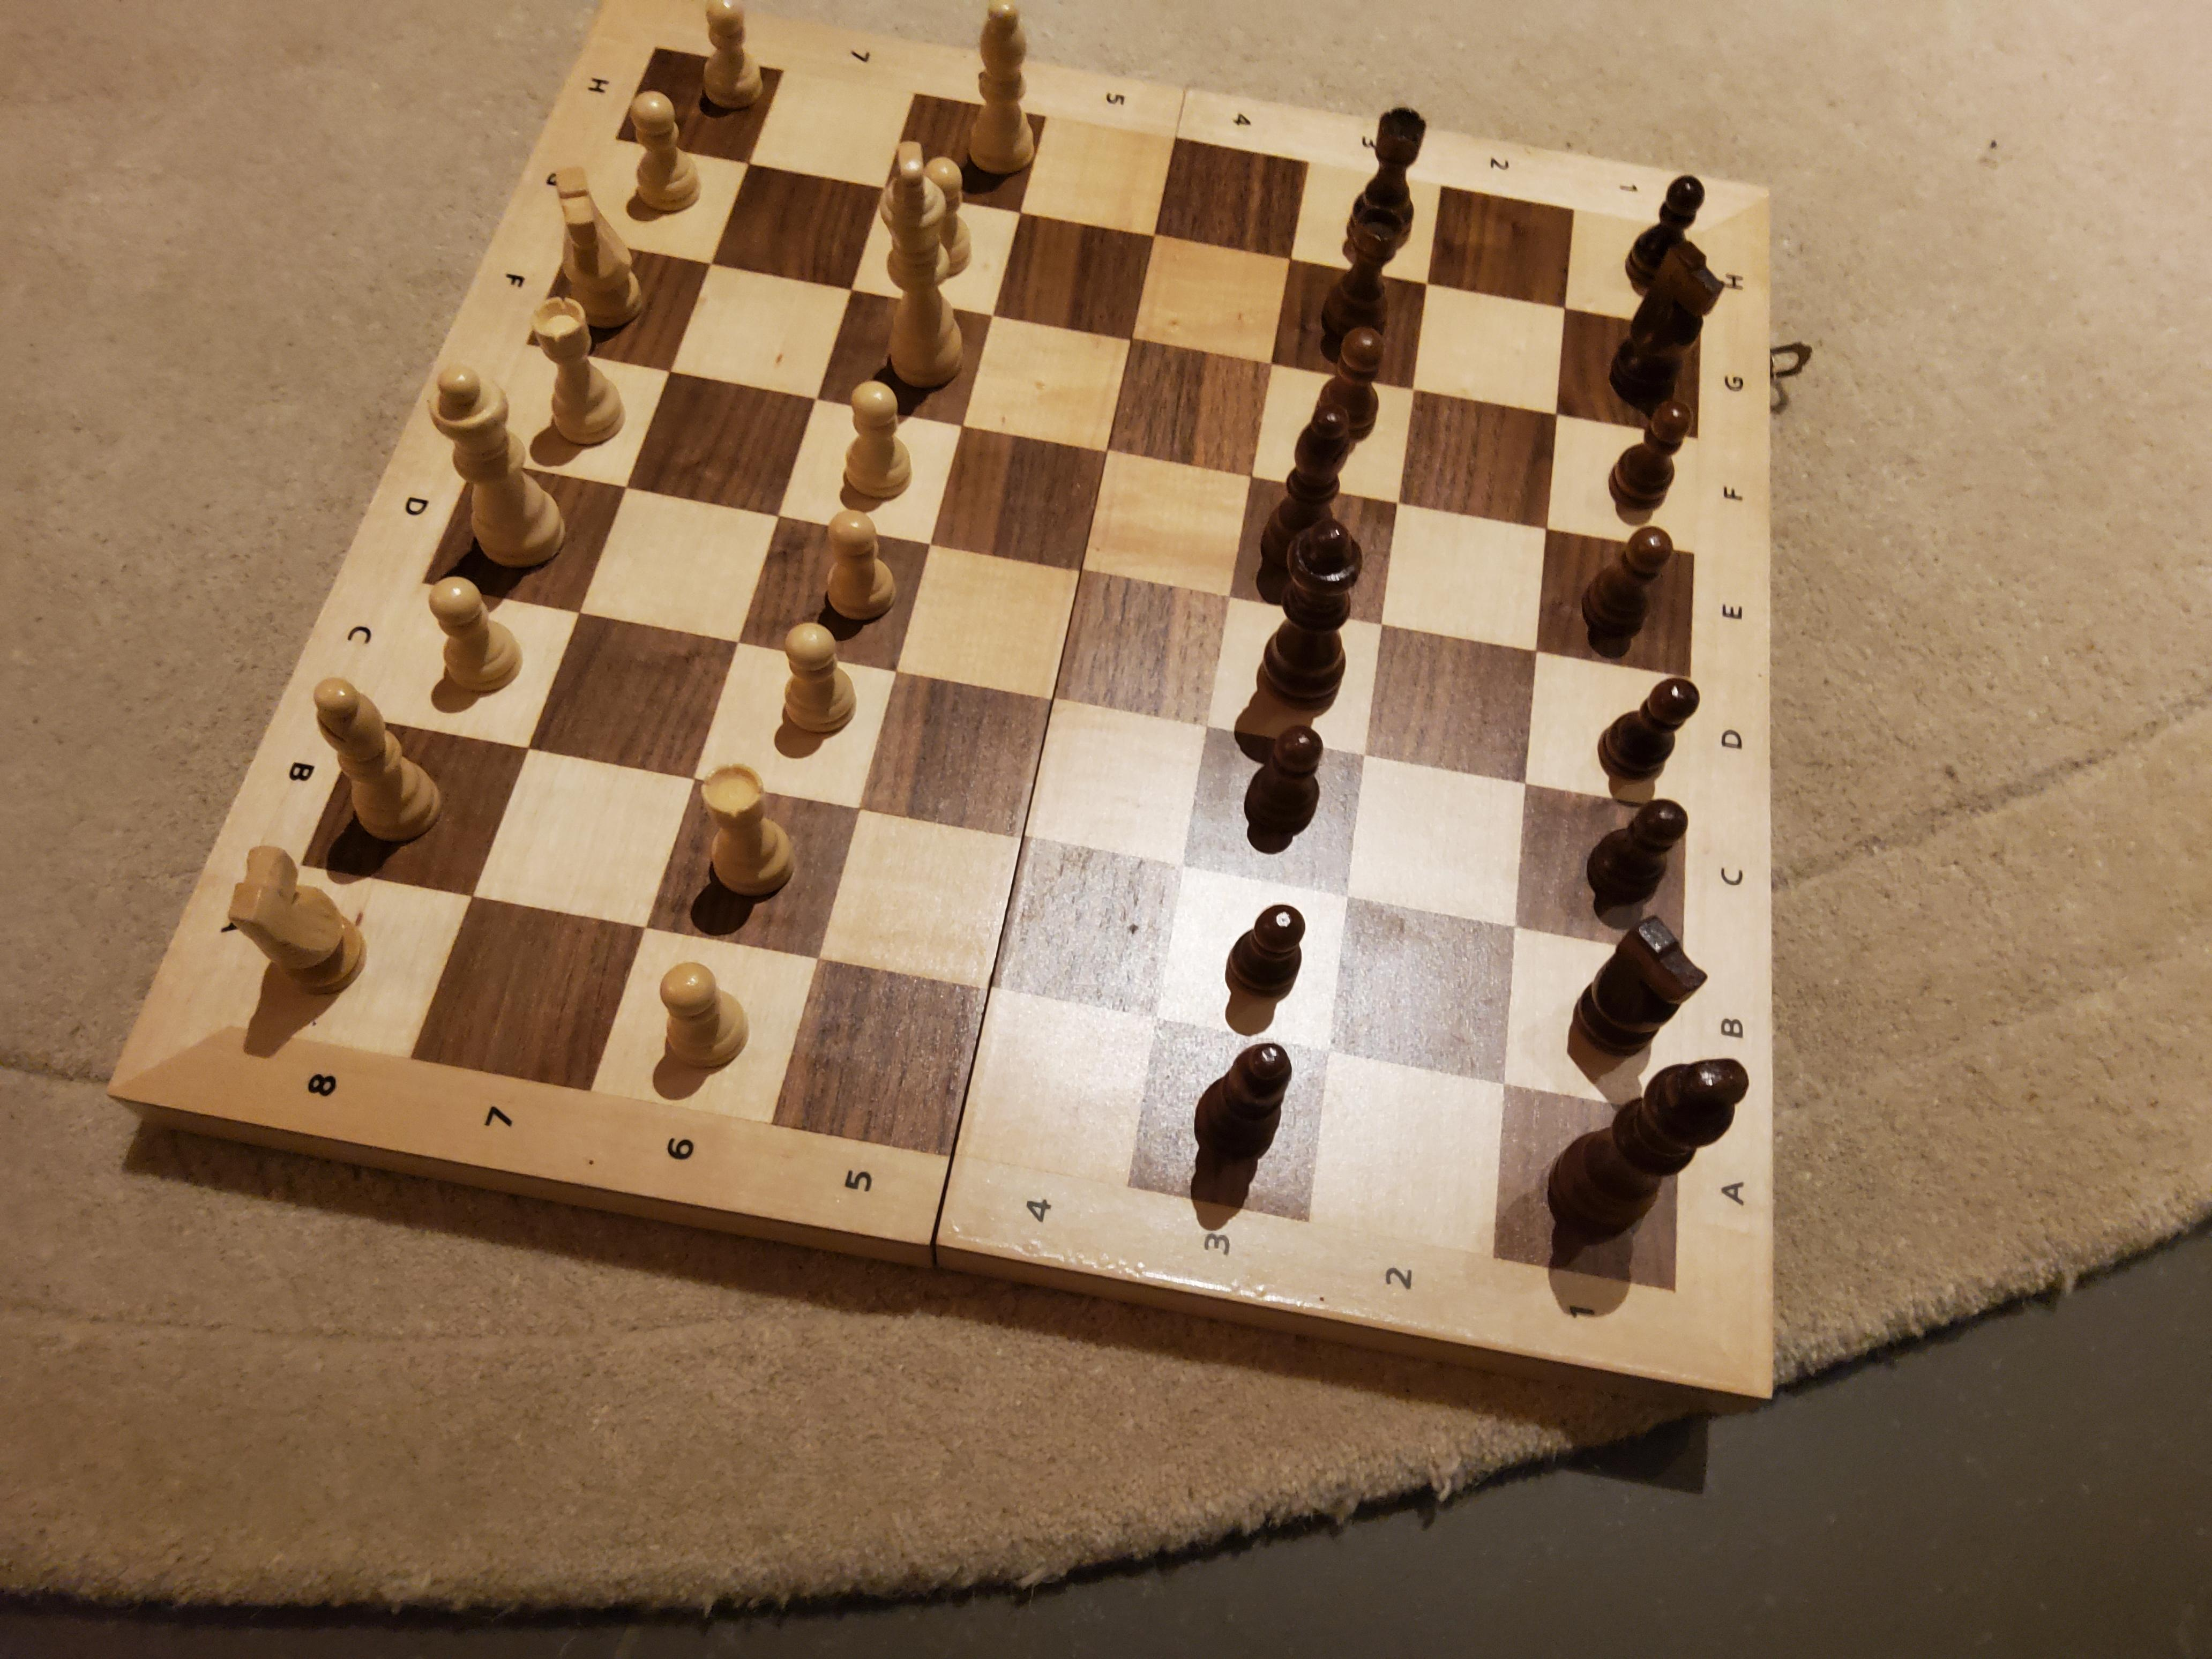schaak: (91, 0, 1808, 1405), (1564, 1011, 1728, 1305), (423, 340, 563, 568), (214, 838, 374, 992), (887, 131, 977, 378), (538, 160, 667, 329), (314, 673, 448, 831), (523, 275, 637, 448), (967, 0, 1045, 190), (1581, 507, 1686, 647), (1627, 234, 1712, 385), (648, 953, 761, 1066), (1275, 518, 1339, 716), (1599, 908, 1688, 1051), (693, 762, 786, 896), (1592, 774, 1679, 901), (1200, 1028, 1275, 1171), (1221, 889, 1305, 1016), (622, 78, 705, 200), (841, 378, 925, 498), (1353, 101, 1420, 246), (686, 0, 772, 106), (782, 613, 860, 728), (826, 507, 895, 633), (427, 584, 517, 678), (1622, 652, 1683, 788), (1611, 404, 1683, 504), (1298, 390, 1350, 514), (1268, 727, 1324, 842), (1343, 214, 1388, 354), (1332, 328, 1378, 443), (932, 153, 981, 258), (1648, 164, 1698, 246)
